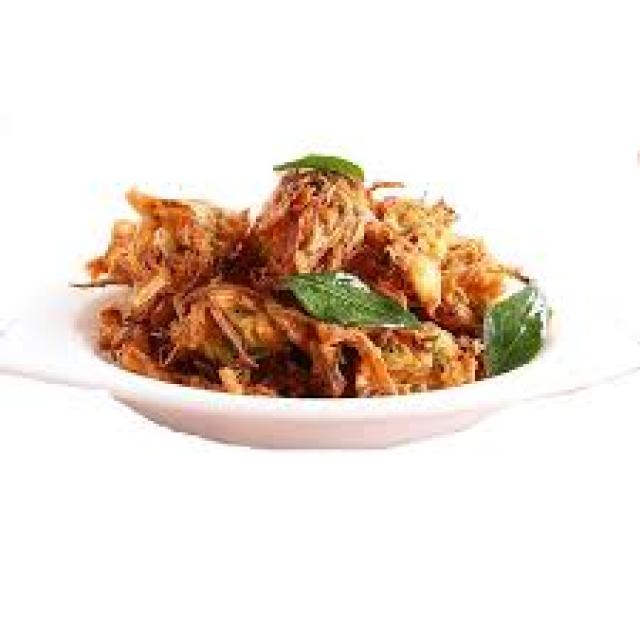BAJI: (74, 143, 542, 398)
